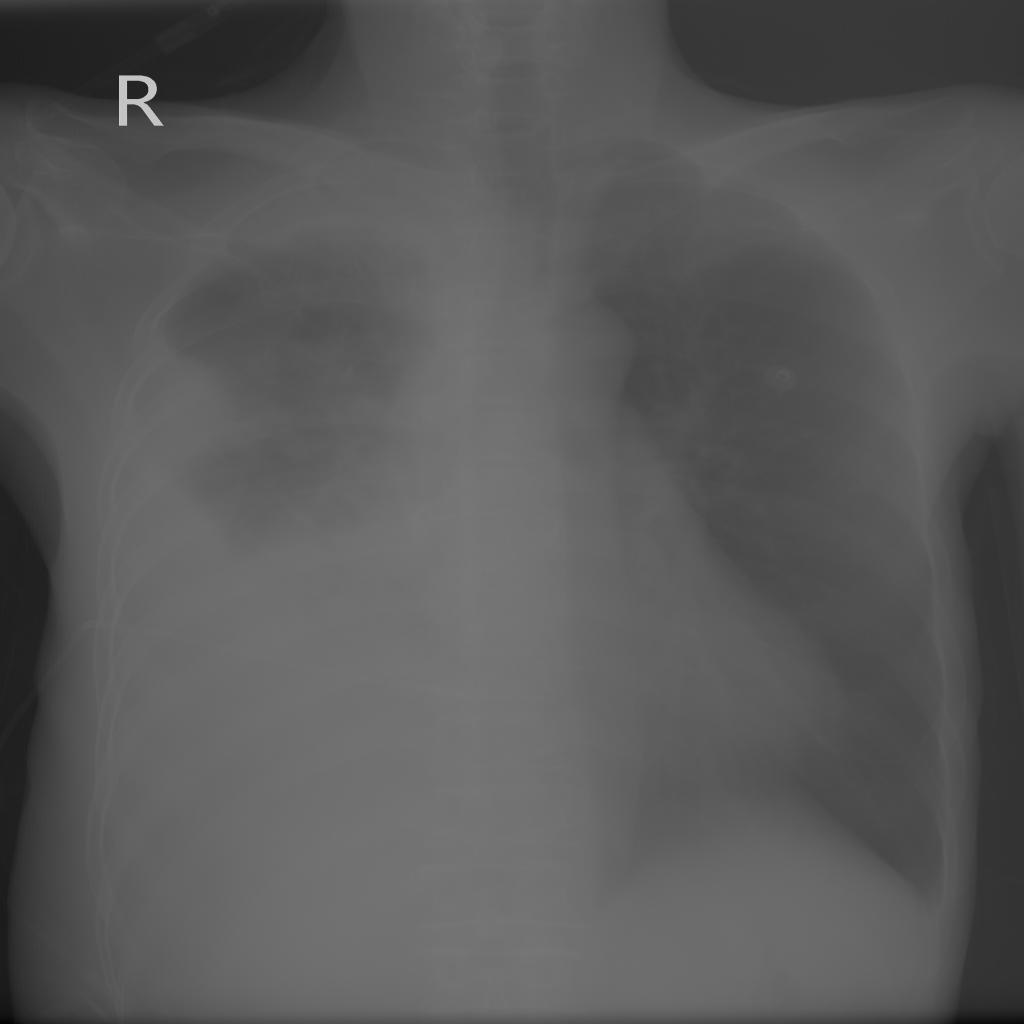Nodule: (123, 348, 243, 464)
